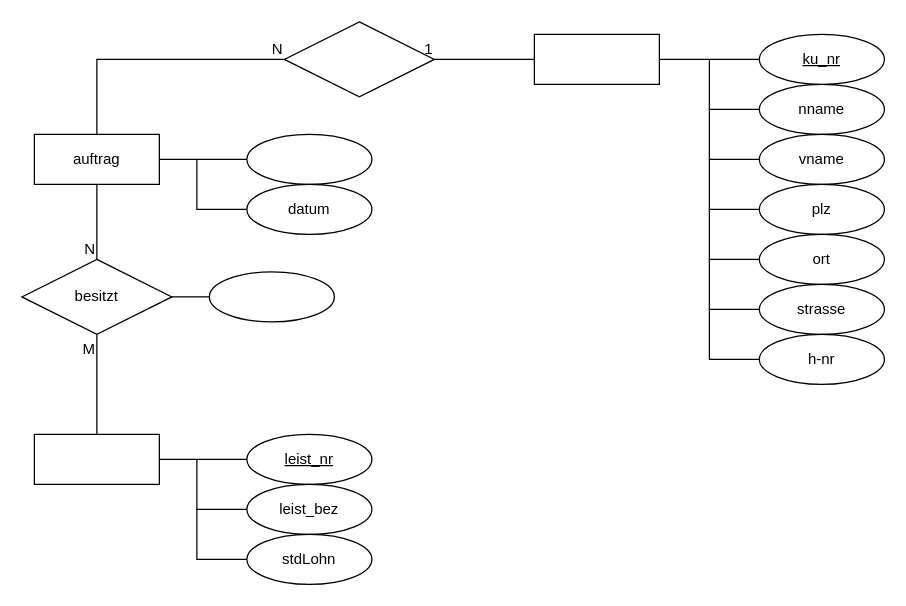
The diagram is 906 pixels wide and 606 high, and some of its shapes have lost their labels. The shapes that lost their labels are listed below. From the top down, each one's centre as x and y in pixels, then its label:
the point at 358,59: wird aufgeben von
the point at 596,58: kunde
the point at 309,158: auf_nr
the point at 271,296: std
the point at 96,458: leistung
